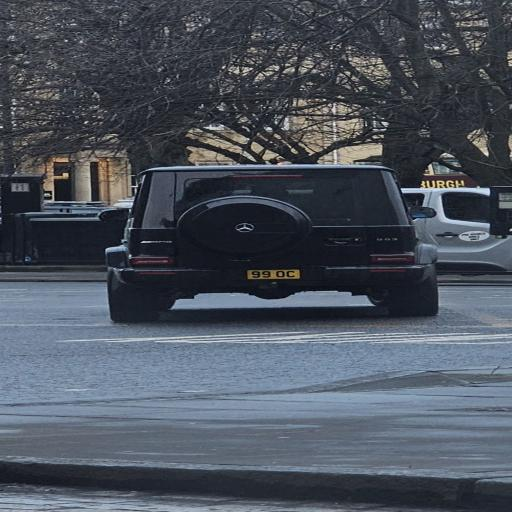numberplates: (247, 270, 300, 279)
